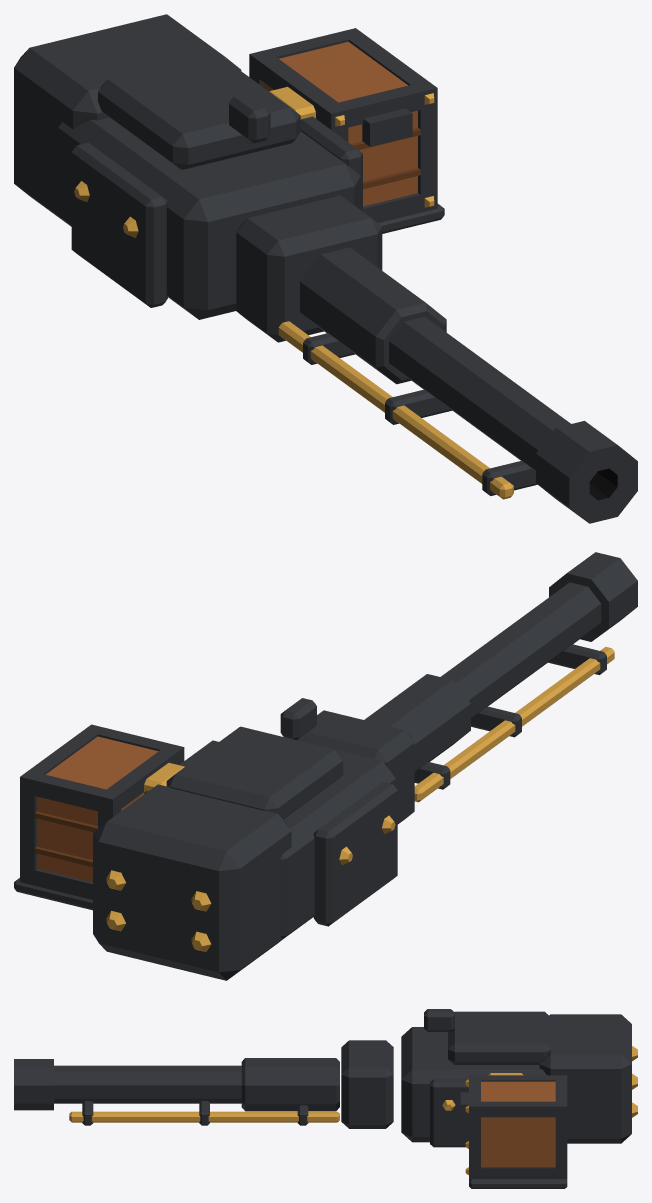
The model's file is GunB.obj.
3 renders of one model, top to bottom at view 1: azimuth 30°, elevation 25°; view 2: azimuth 150°, elevation 25°; view 3: azimuth 270°, elevation 25°, orthographic. The views are drawn at different scales.
Visible parts, largest first — view 1: GunB; view 2: GunB; view 3: GunB.
Boxes of the visible parts, left/top/right/bottom form: GunB: left=14, top=14, right=637, bottom=523; GunB: left=14, top=552, right=637, bottom=980; GunB: left=14, top=1009, right=637, bottom=1188.
Bounding box in the file's own units: 0.9138 × 0.492 × 2.44.
